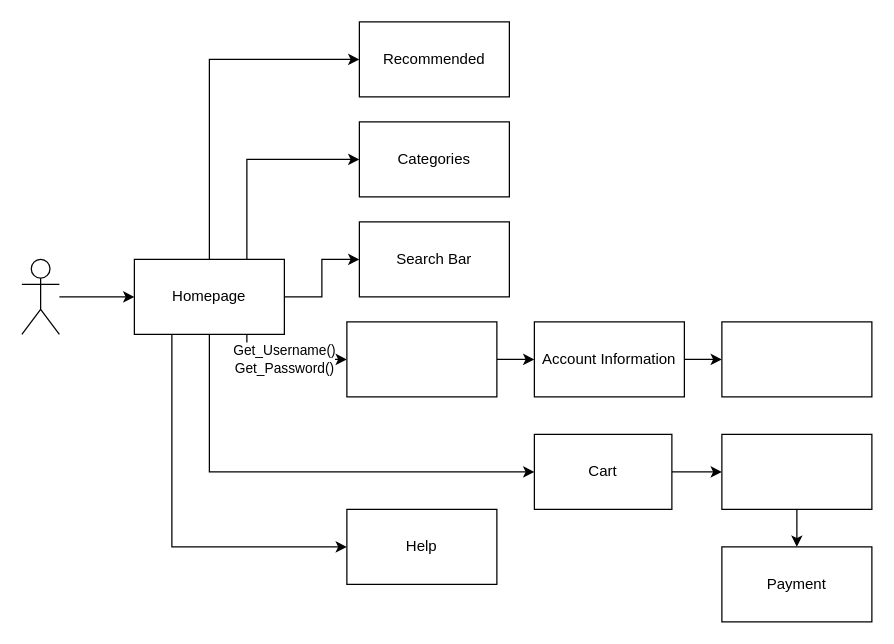
The diagram is 894 pixels wide and 644 high, and some of its shapes have lost their labels. Each missing label, with the centre of its shape:
Actor: pixel 40 296
Checkout: pixel 796 471
Login: pixel 421 359
Product Tracking: pixel 796 359
